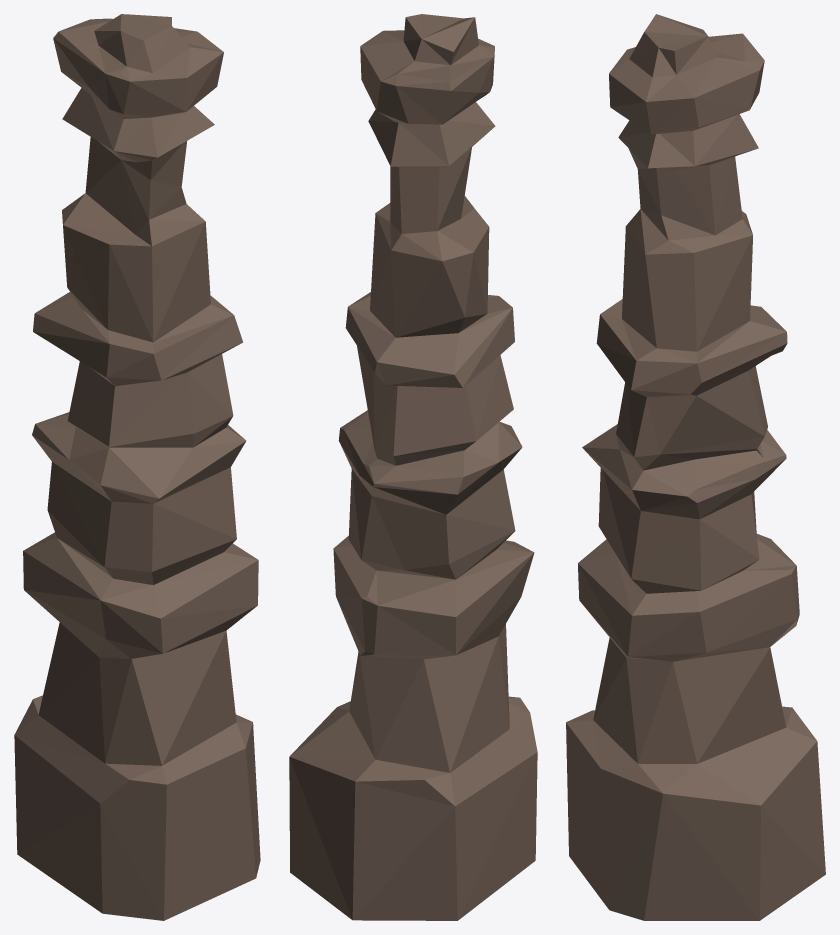
File: zone3-s25.glb
3 renders of one model, left to right at view 1: azimuth 30°, elevation 25°; view 2: azimuth 150°, elevation 25°; view 3: azimuth 270°, elevation 25°, orthographic.
Parts seen in each view (by area): view 1: rock-sea-pillar-lava-tall-a.002; view 2: rock-sea-pillar-lava-tall-a.002; view 3: rock-sea-pillar-lava-tall-a.002.
Boxes of the visible parts, left/top/right/bottom form: rock-sea-pillar-lava-tall-a.002: left=14, top=14, right=260, bottom=920; rock-sea-pillar-lava-tall-a.002: left=289, top=14, right=537, bottom=920; rock-sea-pillar-lava-tall-a.002: left=566, top=14, right=825, bottom=920.
Bounding box in the file's own units: 14.03 × 64.22 × 17.96.
